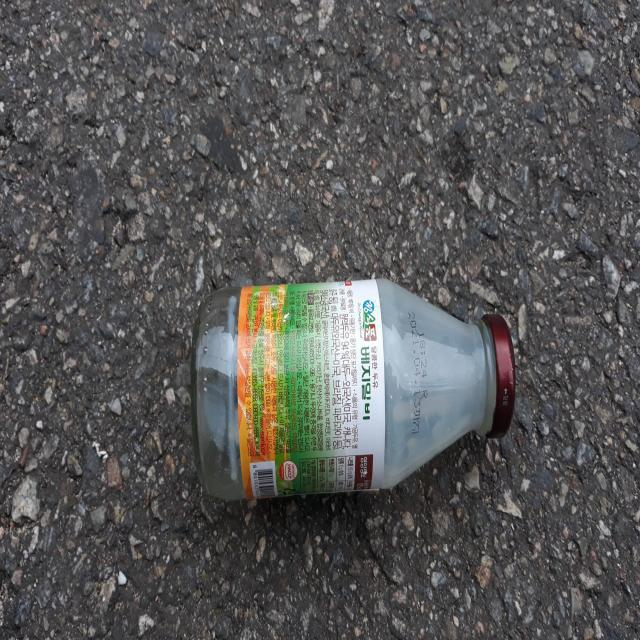glass: (191, 279, 516, 500)
